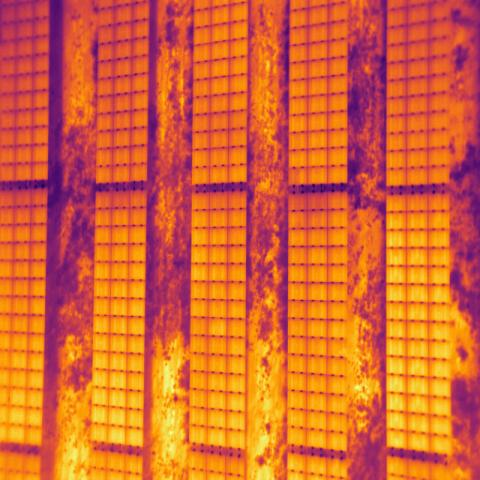fault: (208, 317, 226, 336)
